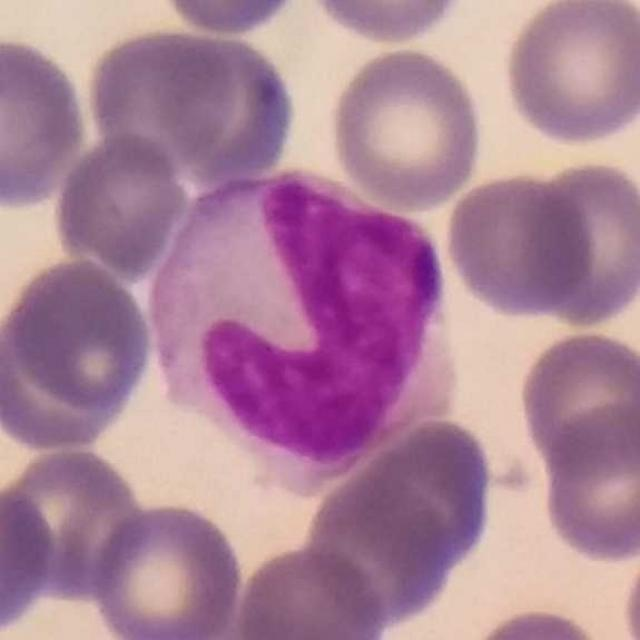Monocyte: (148, 169, 451, 488)
RBC: (0, 254, 158, 453), (324, 42, 489, 213), (298, 466, 461, 634), (337, 414, 499, 581), (79, 24, 258, 175), (440, 168, 598, 323), (0, 443, 148, 603), (87, 497, 246, 640), (49, 129, 191, 281), (497, 0, 640, 150), (524, 156, 637, 330), (514, 326, 640, 477), (536, 400, 640, 566), (0, 30, 91, 212), (232, 540, 388, 640), (0, 480, 58, 639), (303, 0, 472, 48), (153, 0, 307, 39), (462, 604, 612, 640), (619, 533, 640, 640)
